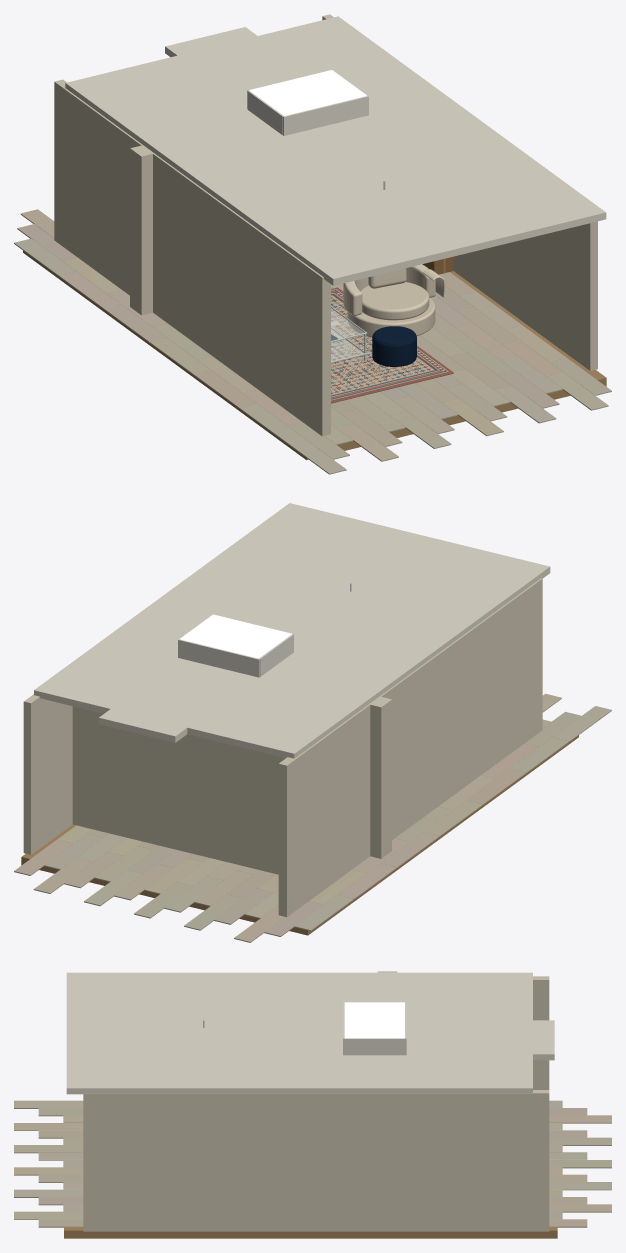
File: kimi_wours.glb
3 views of the same model, one above another, from view 1: azimuth 30°, elevation 25°; view 2: azimuth 150°, elevation 25°; view 3: azimuth 270°, elevation 25° (orthographic). The views are drawn at different scales.
Visible parts, largest first — view 1: Left wall, Ceiling left, Ceiling right, Ceiling front skylight, Right wall, Ceiling rear skylight, Kitchen left pier, Persian rug ivory field, Skylight glass, Floor foundation, Round chair seat cushion, Skylight end reveal (+40 smaller); view 2: Left wall, Ceiling left, Kitchen back wall, Ceiling right, Ceiling front skylight, Right wall, Ceiling rear skylight, Kitchen left pier, Skylight glass, Floor foundation, Skylight end reveal.001, Pale oak floorboard.006 (+27 smaller); view 3: Right wall, Ceiling left, Ceiling right, Ceiling front skylight, Ceiling rear skylight, Floor foundation, Skylight glass, Left wall, Skylight vertical reveal.001, Pale oak floorboard.105, Pale oak floorboard.063, Pale oak floorboard (+14 smaller).
Boxes of the visible parts, <box> form: Left wall: <box>54,79,330,436</box>; Ceiling left: <box>65,55,445,285</box>; Ceiling right: <box>258,16,606,238</box>; Ceiling front skylight: <box>287,116,525,258</box>; Right wall: <box>322,14,597,370</box>; Ceiling rear skylight: <box>165,27,310,105</box>; Kitchen left pier: <box>130,145,154,315</box>; Persian rug ivory field: <box>331,295,433,395</box>; Skylight glass: <box>249,70,366,115</box>; Floor foundation: <box>23,241,606,460</box>; Round chair seat cushion: <box>360,282,429,320</box>; Skylight end reveal: <box>283,95,368,135</box>; Left wall: <box>278,578,542,917</box>; Ceiling left: <box>187,540,550,758</box>; Kitchen back wall: <box>72,706,330,874</box>; Ceiling right: <box>34,503,365,713</box>; Ceiling front skylight: <box>233,521,442,648</box>; Right wall: <box>23,694,72,854</box>; Ceiling rear skylight: <box>99,658,255,742</box>; Kitchen left pier: <box>369,696,391,858</box>; Skylight glass: <box>180,614,291,658</box>; Floor foundation: <box>21,722,578,935</box>; Skylight end reveal.001: <box>178,638,259,677</box>; Pale oak floorboard.006: <box>294,895,353,931</box>; Right wall: <box>83,1090,549,1231</box>; Ceiling left: <box>66,972,532,1020</box>; Ceiling right: <box>66,1054,532,1094</box>; Ceiling front skylight: <box>66,1020,342,1054</box>; Ceiling rear skylight: <box>406,1020,554,1060</box>; Floor foundation: <box>64,1122,557,1238</box>; Skylight glass: <box>344,1002,404,1038</box>; Left wall: <box>533,976,549,1089</box>; Skylight vertical reveal.001: <box>344,1038,404,1055</box>; Pale oak floorboard.105: <box>14,1211,83,1219</box>; Pale oak floorboard.063: <box>14,1167,83,1175</box>; Pale oak floorboard: <box>14,1100,83,1108</box>.
Bounding box in the file's own units: 5.65 × 3.38 × 10.91.
